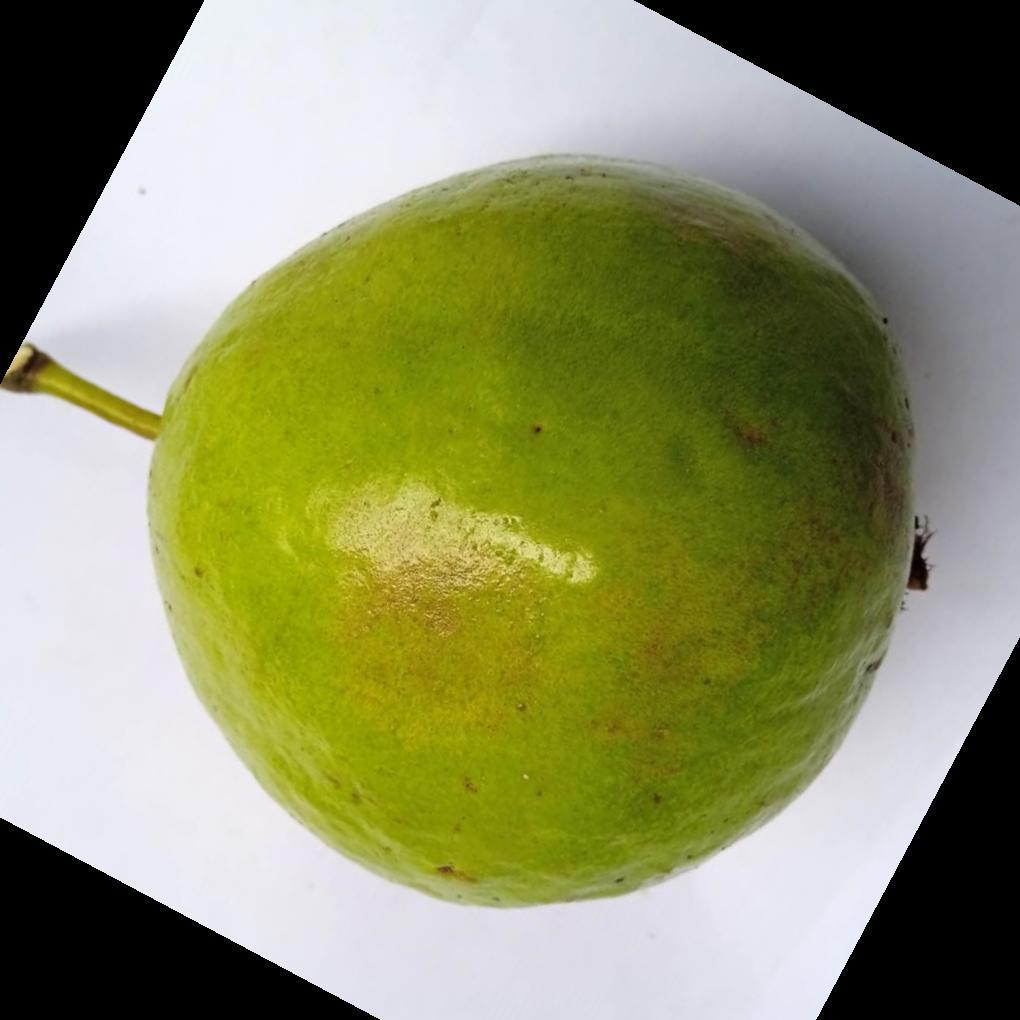FreshGuava: (119, 156, 918, 913)
